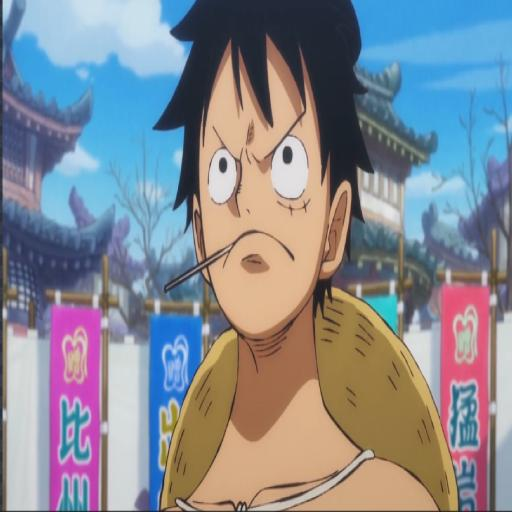Luffy: (152, 0, 458, 512)
